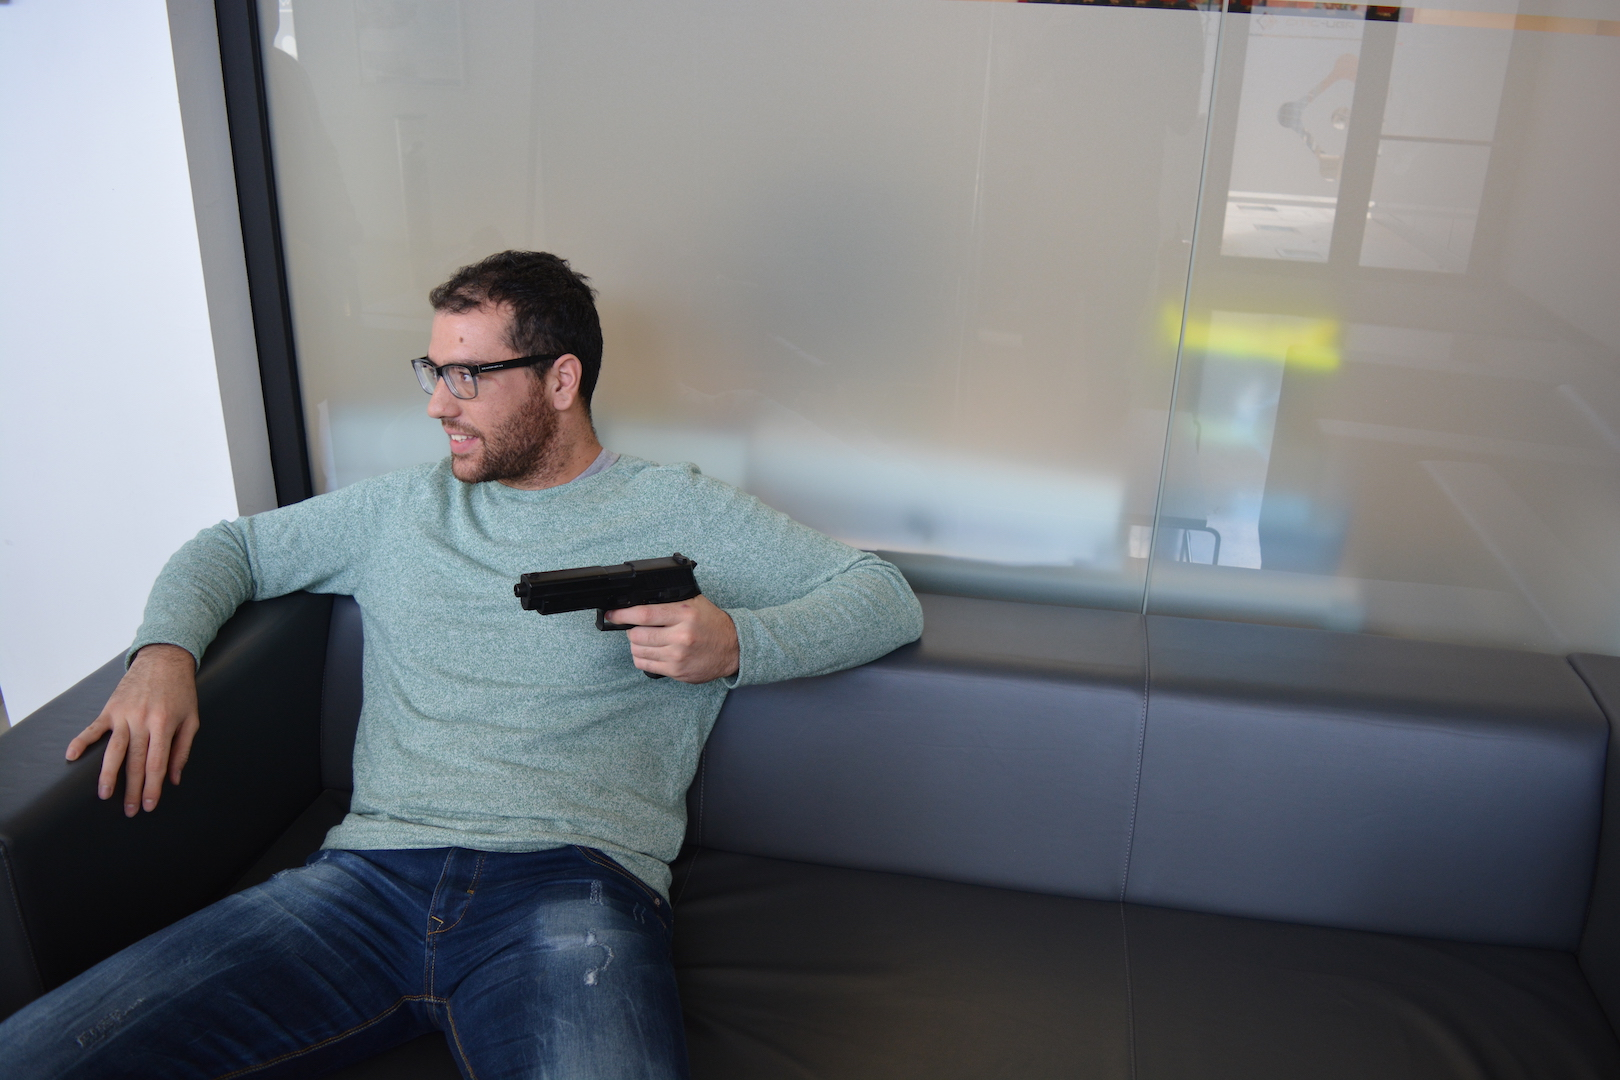pistol: (513, 552, 703, 680)
